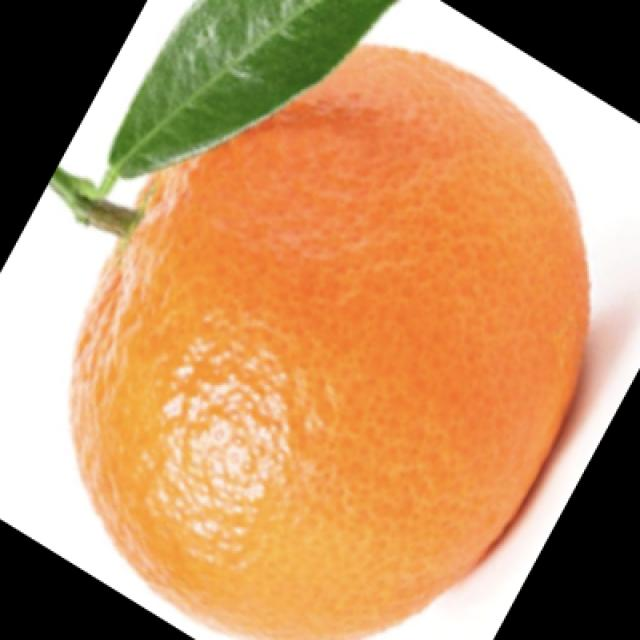matang: (75, 44, 592, 635)
